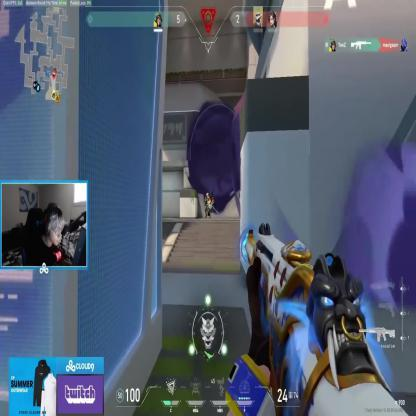enemy: (206, 192, 210, 218)
enemy_head: (206, 192, 209, 197)
